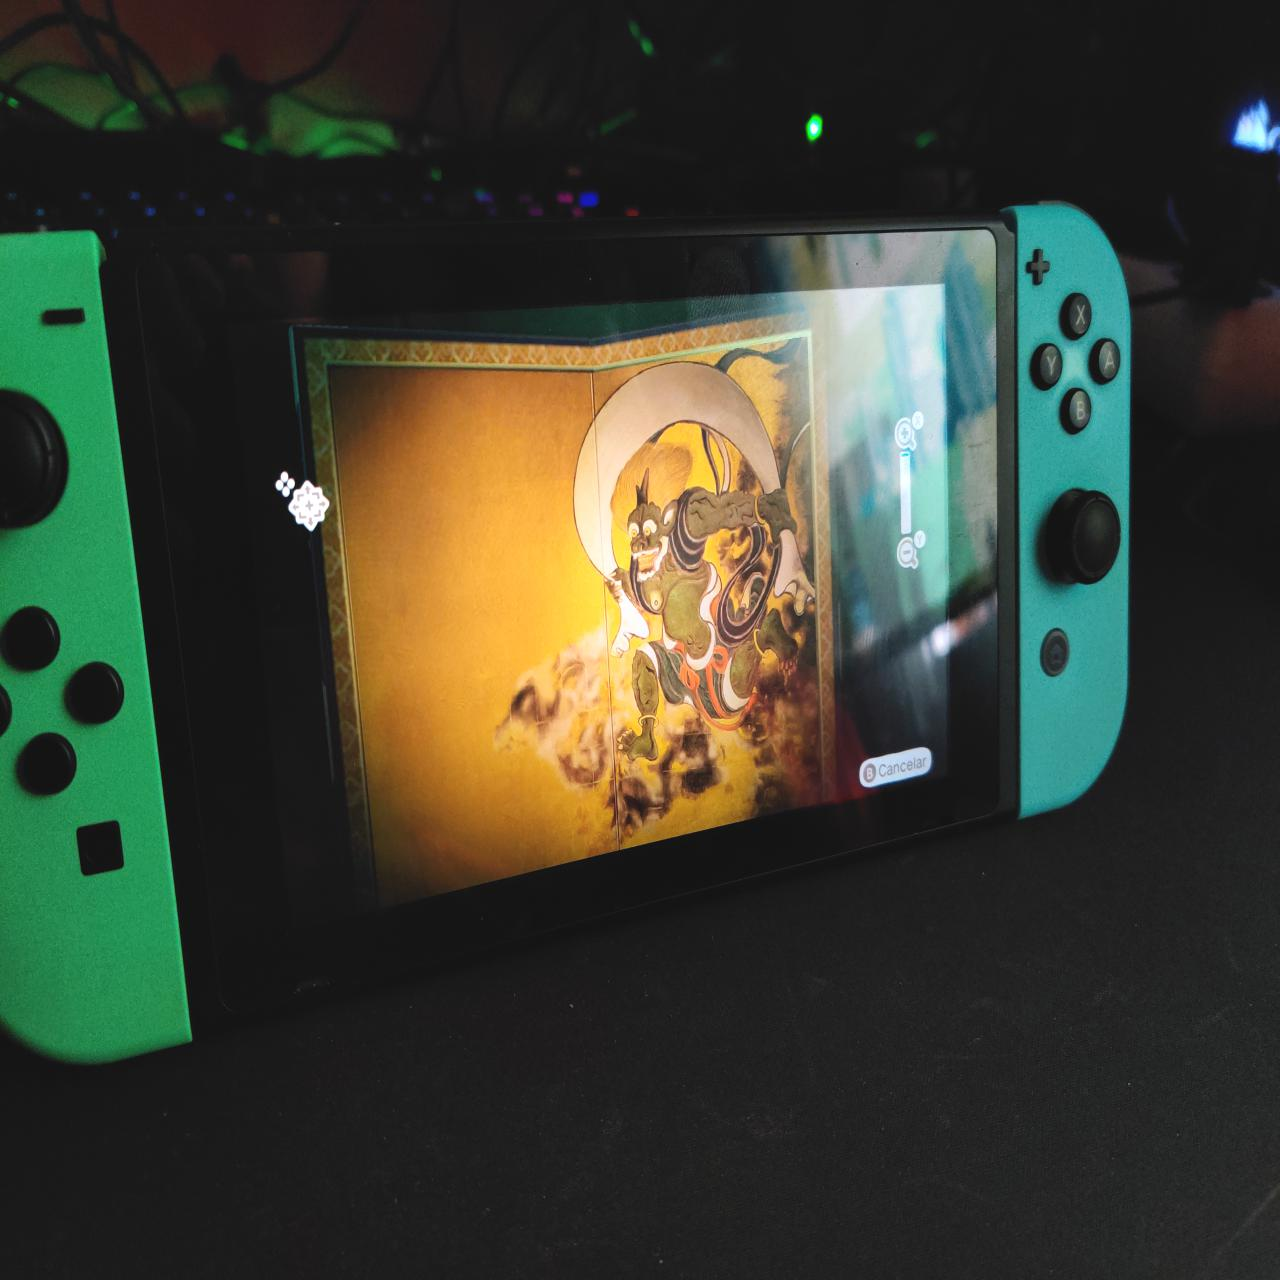Fuujin: (293, 312, 838, 897)
